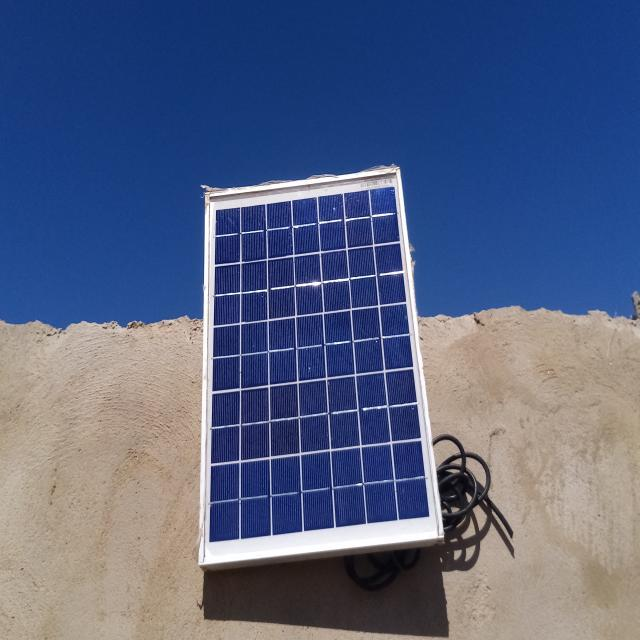no faulty: (201, 171, 441, 563)
